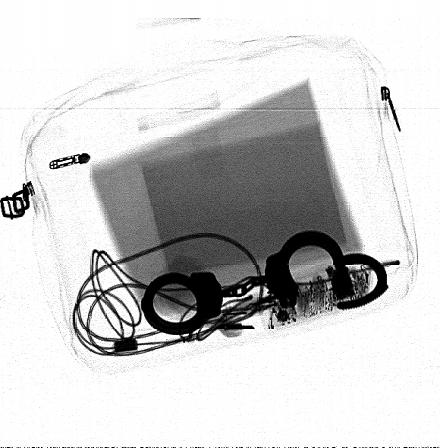HandCuffs: (141, 231, 389, 334)
